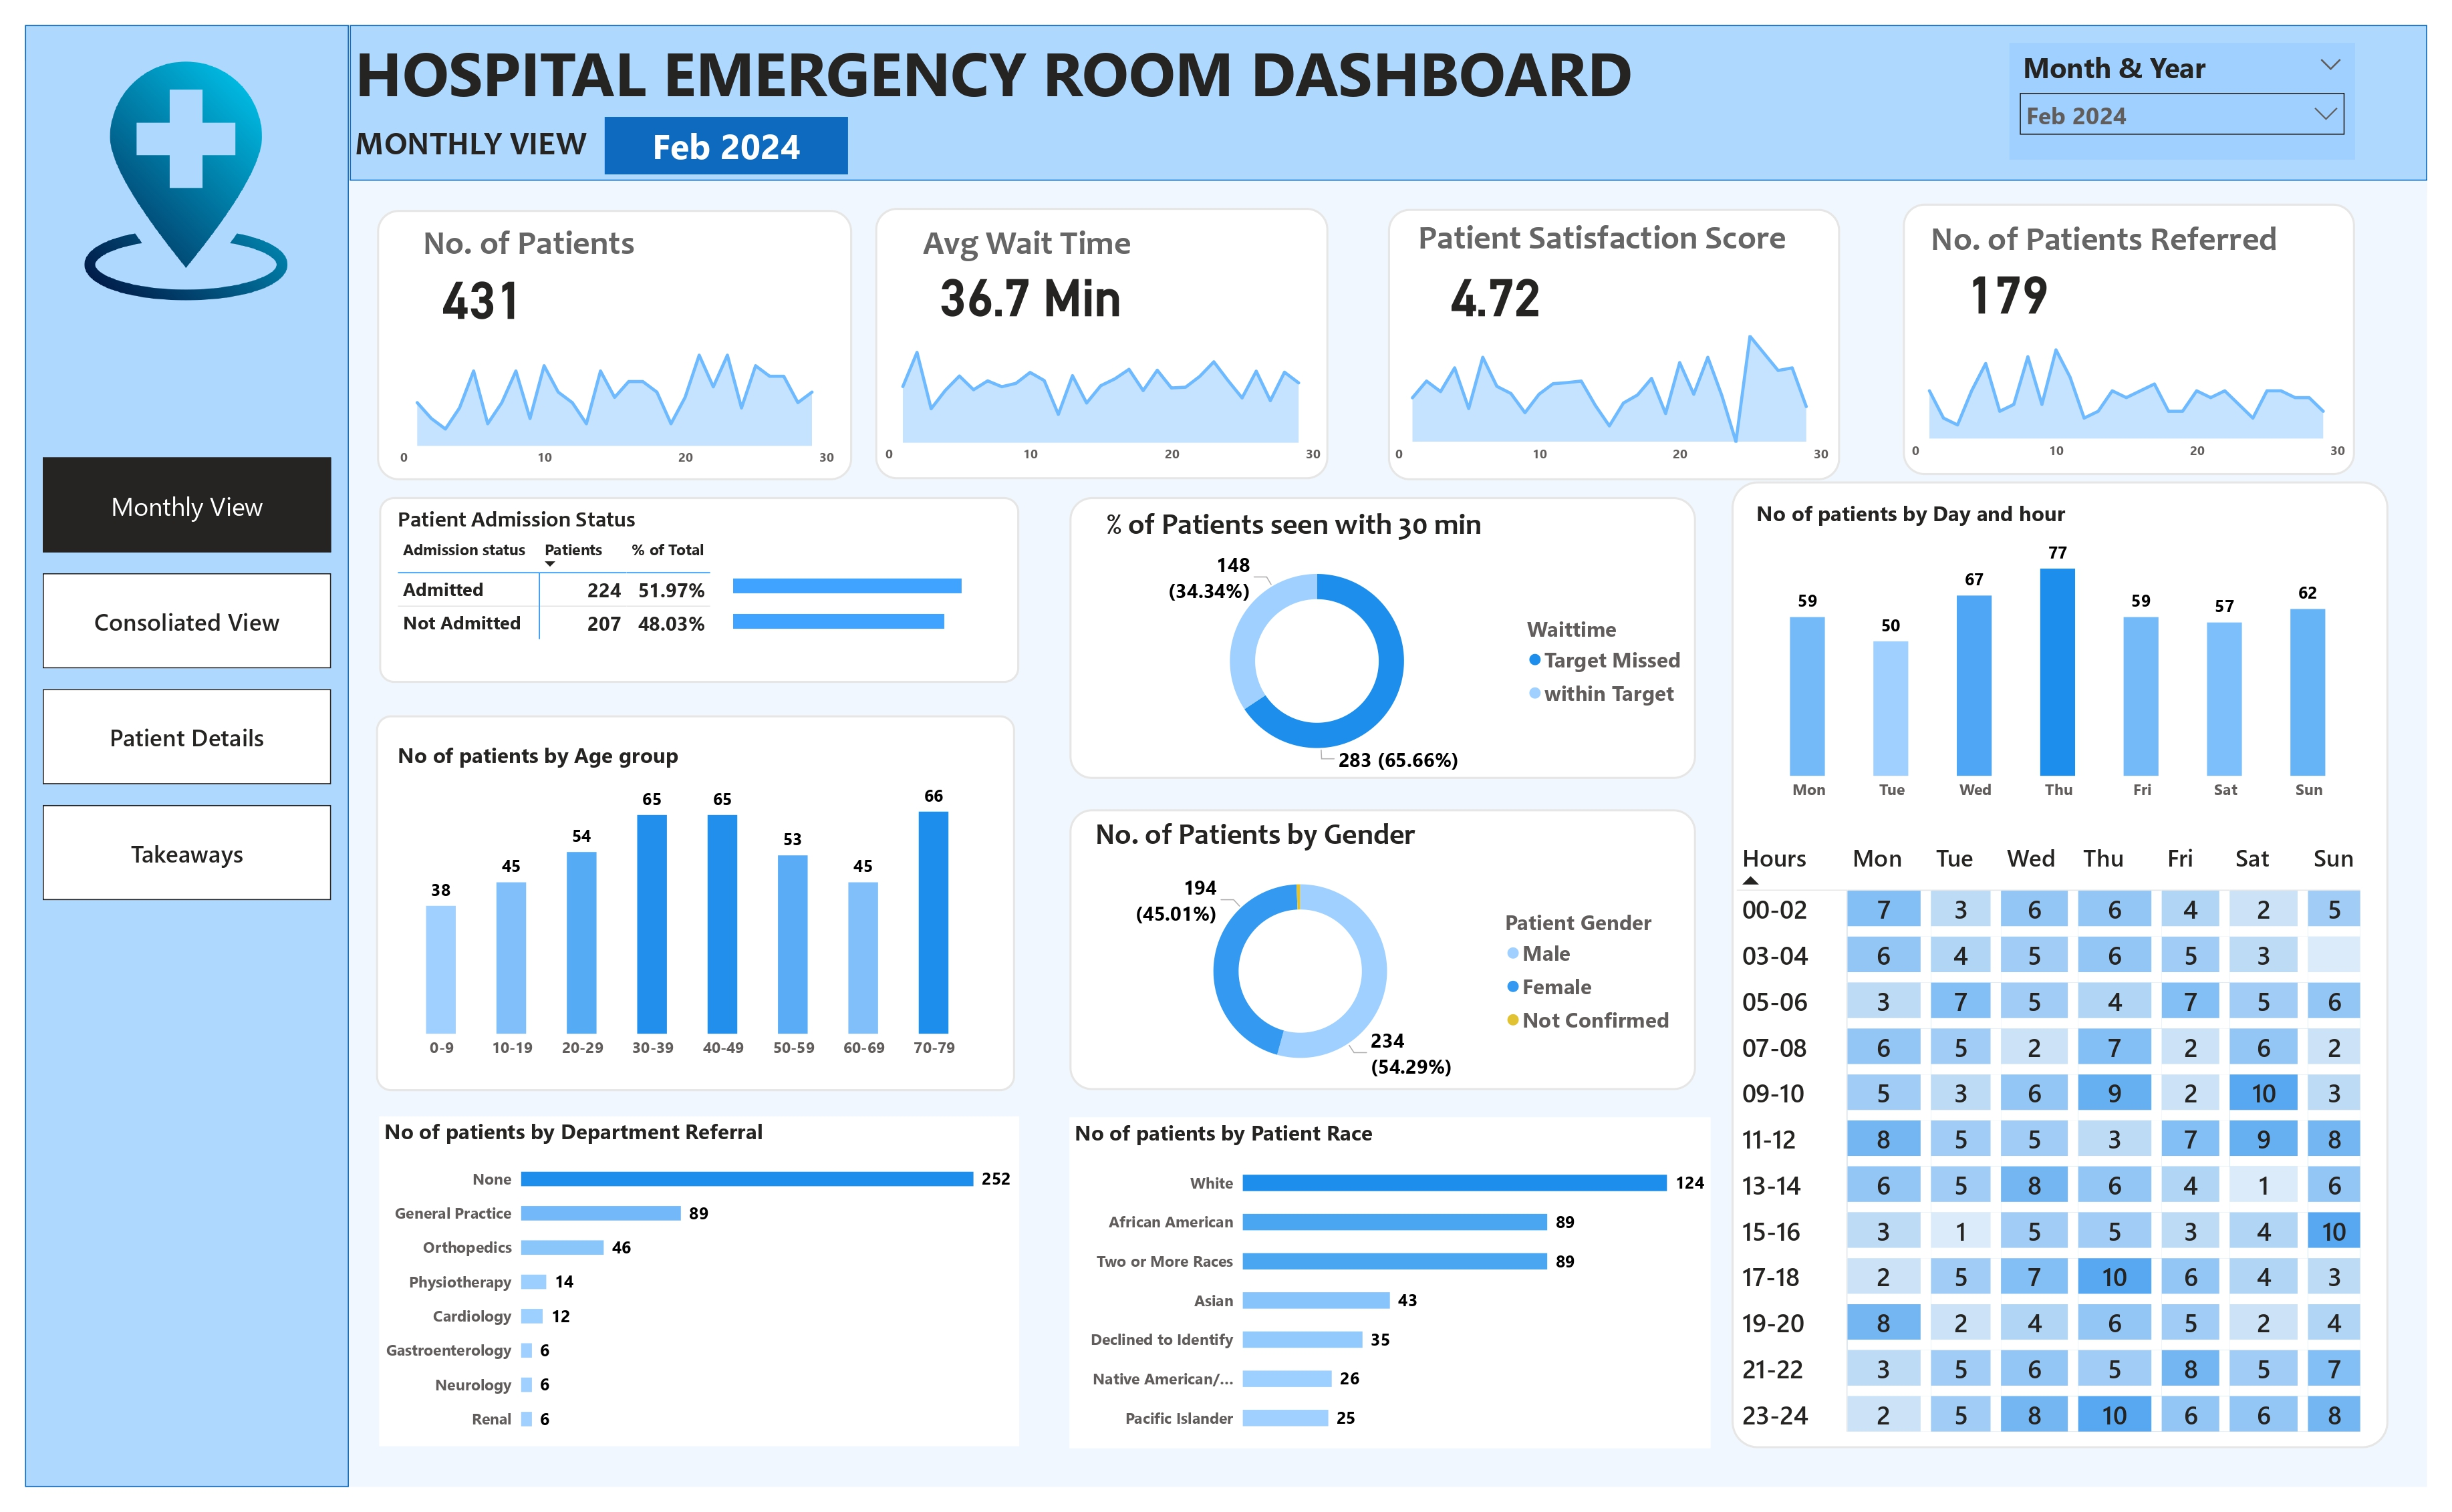

The dashboard page shown, as its layout file describes it:
{"tool":"powerbi","page":{"name":"Monthly View","canvas":[2300,1400],"ordinal":0},"visuals":[{"type":"shape","box":[0,0,310,1400],"z":0},{"type":"shape","box":[311.4,0,1988.6,148.6],"z":1000},{"type":"textbox","box":[311.4,0,1842.9,111.4],"z":2000},{"type":"textbox","box":[311.4,88.6,242.9,60],"z":3000},{"type":"slicer","fields":{"Values":["Date Table.Month & Year"]},"box":[1900,17.1,331.4,111.4],"z":4000},{"type":"shape","box":[337.1,177.1,455,259],"z":5000},{"type":"textbox","box":[376.3,184.2,265.8,57.9],"z":6000},{"type":"card","fields":{"Values":["Hospital ER_Data.No of patients"]},"box":[376.3,213.2,123.7,89.5],"z":7000},{"type":"stackedAreaChart","fields":{"Category":["Date Table.Date.Variation.Date Hierarchy.Day"],"Y":["Hospital ER_Data.No of patients"]},"box":[347.4,286.8,434.2,144.7],"z":8000},{"type":"card","fields":{"Values":["Min(Date Table.Month & Year)"]},"box":[554.8,88.1,233.3,54.8],"z":9000},{"type":"shape","box":[813.8,175.2,434.3,260],"z":10000},{"type":"card","fields":{"Values":["Hospital ER_Data.Avg wait time"]},"box":[855.3,215.8,215.8,78.9],"z":11000},{"type":"stackedAreaChart","fields":{"Category":["Date Table.Date.Variation.Date Hierarchy.Day"],"Y":["Avg(Hospital ER_Data.Patient Waittime)"]},"box":[812.4,283.8,435.7,145.2],"z":12000},{"type":"shape","box":[1304.8,176.2,433.3,259.5],"z":13000},{"type":"shape","box":[1797.6,171.4,433.3,259.5],"z":14000},{"type":"textbox","box":[855.3,184.2,286.8,52.6],"z":15000},{"type":"textbox","box":[1328.9,178.9,410.5,81.6],"z":16000},{"type":"card","fields":{"Values":["Avg(Hospital ER_Data.Patient Satisfaction Score)"]},"box":[1300,215.8,215.8,78.9],"z":17000},{"type":"stackedAreaChart","fields":{"Category":["Date Table.Date.Variation.Date Hierarchy.Day"],"Y":["Avg(Hospital ER_Data.Patient Satisfaction Score)"]},"box":[1300,284.2,434.2,144.7],"z":18000},{"type":"textbox","box":[1820,180,411.4,62.9],"z":19000},{"type":"card","fields":{"Values":["Hospital ER_Data.No of patient referred"]},"box":[1789.5,213.2,218.4,78.9],"z":20000},{"type":"stackedAreaChart","fields":{"Category":["Date Table.Date.Variation.Date Hierarchy.Day"],"Y":["Hospital ER_Data.No of patient referred"]},"box":[1794.7,284.2,434.2,142.1],"z":21000},{"type":"shape","box":[339.4,451.5,612.1,178.8],"z":22000},{"type":"pivotTable","title":"Patient Admission Status ","fields":{"Rows":["Hospital ER_Data.Admission status"],"Values":["Hospital ER_Data.No of patients","Divide(Hospital ER_Data.No of patients, ScopedEval(Hospital ER_Data.No of patients, []))"]},"box":[351.5,451.5,321.2,178.8],"z":23000},{"type":"barChart","fields":{"Category":["Hospital ER_Data.Admission status"],"Y":["Hospital ER_Data.No of patients"]},"box":[672.7,500,303,103],"z":24000},{"type":"shape","box":[336.4,660.6,612.1,360.6],"z":25000},{"type":"clusteredColumnChart","fields":{"Y":["Hospital ER_Data.No of patients"],"Category":["Hospital ER_Data.Age group"]},"box":[351.5,684.8,566.7,315.2],"z":26000},{"type":"clusteredBarChart","fields":{"Y":["Hospital ER_Data.No of patients"],"Category":["Hospital ER_Data.Department Referral"]},"box":[339.4,1045.5,612.1,315.2],"z":27000},{"type":"shape","box":[1000,451.5,600,270],"z":28000},{"type":"donutChart","title":"% of Patients seen with 30 min","fields":{"Category":["Hospital ER_Data.Waittime"],"Y":["Hospital ER_Data.No of patients"]},"box":[1031.4,460,568.6,262.9],"z":29000},{"type":"shape","box":[1000,751.4,600,268.6],"z":30000},{"type":"donutChart","title":"No. of Patients by Gender","fields":{"Y":["Hospital ER_Data.No of patients"],"Category":["Hospital ER_Data.Patient Gender"]},"box":[1020,757.1,568.6,262.9],"z":31000},{"type":"clusteredBarChart","fields":{"Y":["Hospital ER_Data.No of patients"],"Category":["Hospital ER_Data.Patient Race"]},"box":[1000,1045.7,614.3,317.1],"z":32000},{"type":"shape","box":[1634.2,436.8,628.9,926.3],"z":33000},{"type":"pivotTable","fields":{"Rows":["Hospital ER_Data.Waittime Interval"],"Columns":["Date Table.Day Name"],"Values":["Hospital ER_Data.No of patients"]},"box":[1634.2,776.3,628.9,584.2],"z":34000},{"type":"columnChart","fields":{"Y":["Hospital ER_Data.No of patients"],"Category":["Date Table.Day Name"]},"box":[1652.6,452.6,589.5,300],"z":35000},{"type":"image","box":[34.2,21.1,239.5,255.3],"z":36000},{"type":"pageNavigator","box":[17.2,413.8,275.9,427.6],"z":37000}]}

Visuals, with their boxes on the page's 2300x1400 design canvas (x1, y1, x2, y2). These are canvas units, not pixel positions in the 2452x1512 screenshot, which may show the page scaled, cropped or inside an application window:
shape: (0,0,310,1400)
shape: (311,0,2300,149)
textbox: (311,0,2154,111)
textbox: (311,89,554,149)
slicer - Date Table.Month & Year: (1900,17,2231,128)
shape: (337,177,792,436)
textbox: (376,184,642,242)
card - Hospital ER_Data.No of patients: (376,213,500,303)
stackedAreaChart - Date Table.Date.Variation.Date Hierarchy.Day x Hospital ER_Data.No of patients: (347,287,782,432)
card - Min(Date Table.Month & Year): (555,88,788,143)
shape: (814,175,1248,435)
card - Hospital ER_Data.Avg wait time: (855,216,1071,295)
stackedAreaChart - Date Table.Date.Variation.Date Hierarchy.Day x Avg(Hospital ER_Data.Patient Waittime): (812,284,1248,429)
shape: (1305,176,1738,436)
shape: (1798,171,2231,431)
textbox: (855,184,1142,237)
textbox: (1329,179,1739,260)
card - Avg(Hospital ER_Data.Patient Satisfaction Score): (1300,216,1516,295)
stackedAreaChart - Date Table.Date.Variation.Date Hierarchy.Day x Avg(Hospital ER_Data.Patient Satisfaction Score): (1300,284,1734,429)
textbox: (1820,180,2231,243)
card - Hospital ER_Data.No of patient referred: (1790,213,2008,292)
stackedAreaChart - Date Table.Date.Variation.Date Hierarchy.Day x Hospital ER_Data.No of patient referred: (1795,284,2229,426)
shape: (339,452,952,630)
"Patient Admission Status " pivotTable: (352,452,673,630)
barChart - Hospital ER_Data.Admission status x Hospital ER_Data.No of patients: (673,500,976,603)
shape: (336,661,948,1021)
clusteredColumnChart - Hospital ER_Data.No of patients x Hospital ER_Data.Age group: (352,685,918,1000)
clusteredBarChart - Hospital ER_Data.No of patients x Hospital ER_Data.Department Referral: (339,1046,952,1361)
shape: (1000,452,1600,722)
"% of Patients seen with 30 min" donutChart: (1031,460,1600,723)
shape: (1000,751,1600,1020)
"No. of Patients by Gender" donutChart: (1020,757,1589,1020)
clusteredBarChart - Hospital ER_Data.No of patients x Hospital ER_Data.Patient Race: (1000,1046,1614,1363)
shape: (1634,437,2263,1363)
pivotTable - Hospital ER_Data.Waittime Interval x Date Table.Day Name: (1634,776,2263,1360)
columnChart - Hospital ER_Data.No of patients x Date Table.Day Name: (1653,453,2242,753)
image: (34,21,274,276)
pageNavigator: (17,414,293,841)
